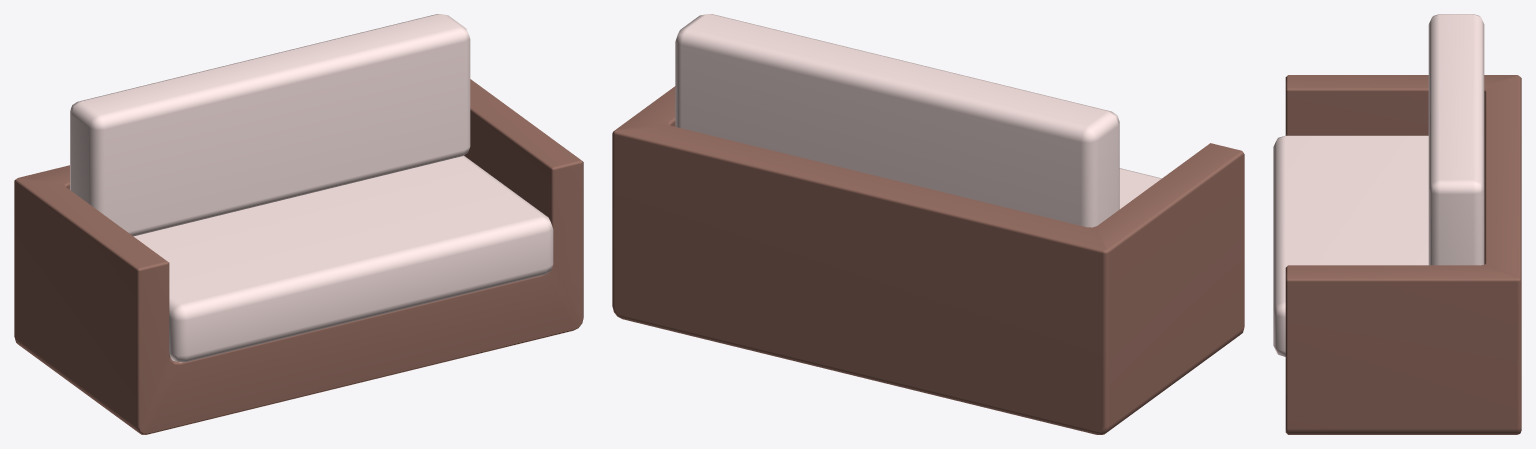
Rendered from Town_18_Outdoor_Couch_1.glb.
The picture shows the model from 3 angles, left to right: view 1: azimuth 30°, elevation 25°; view 2: azimuth 150°, elevation 25°; view 3: azimuth 270°, elevation 25°; orthographic projection. The views are drawn at different scales.
Parts seen in each view (by area): view 1: Town_18_Outdoor_Couch_1; view 2: Town_18_Outdoor_Couch_1; view 3: Town_18_Outdoor_Couch_1.
Boxes of the visible parts, x1,y1,x2,y2 form: Town_18_Outdoor_Couch_1: (14,14,583,434); Town_18_Outdoor_Couch_1: (612,14,1244,434); Town_18_Outdoor_Couch_1: (1273,14,1521,434).
Size of the model in its own units: 2.14 by 1.16 by 1.09.
Materials: 1 (1 with a texture image).
